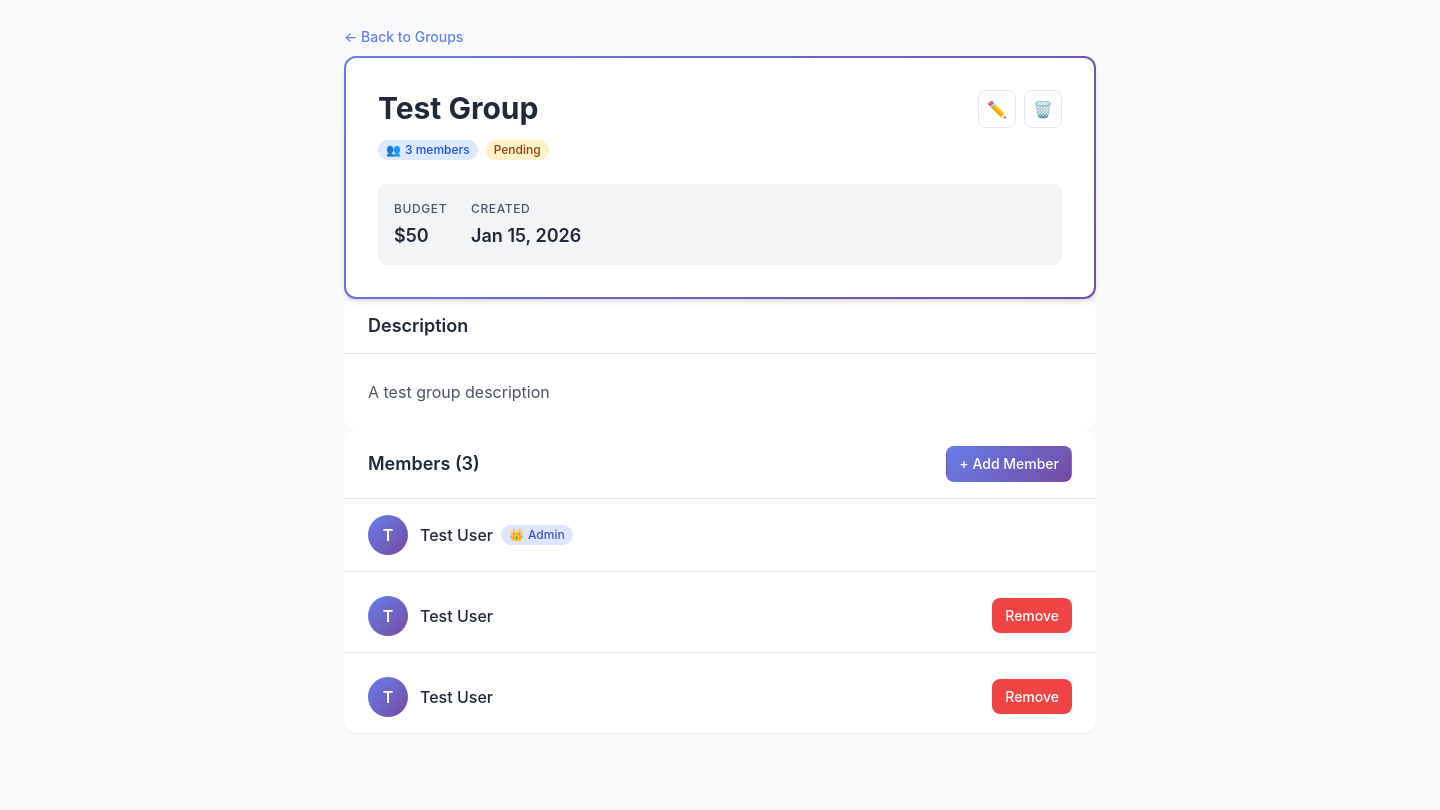
Test: GroupDetailComponent › Remove Member › should show remove confirmation modal
The image size is (1440, 810).
Click the button with test id "remove-member-1".
click(1032, 616)  # box 992,598 -> 1072,633
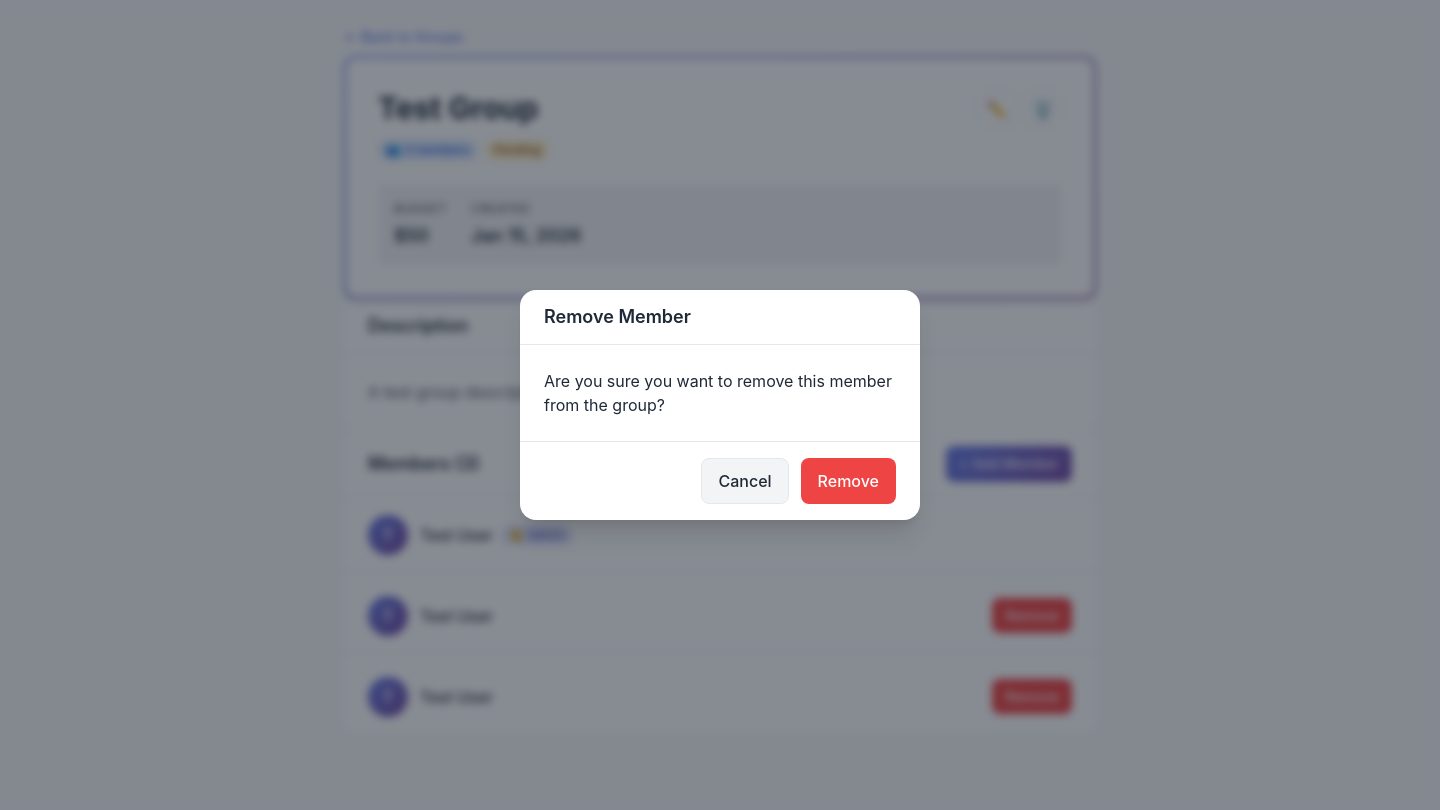
Expected: the dialog with test id "remove-member-modal" is shown
